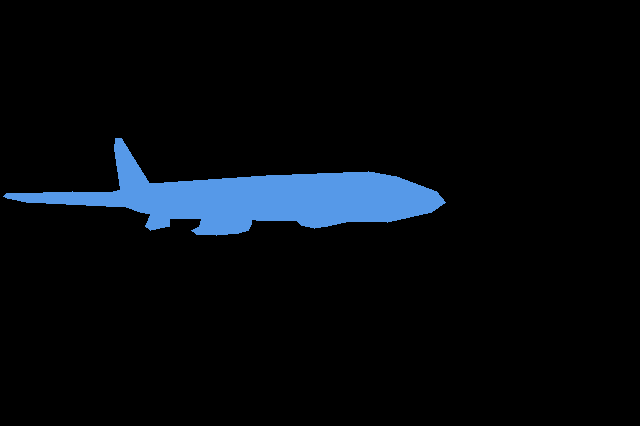Airplane: (3, 138, 445, 235)
